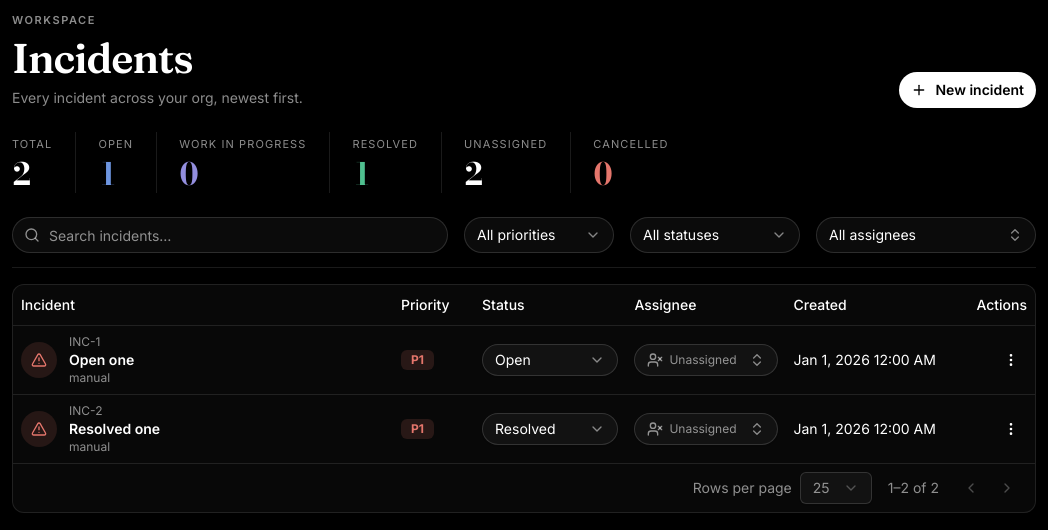
IncidentsListPage — filters › filters by status
This screenshot has width=1048, height=530.
Click the dropdown labelled "All statuses": coordinates (715, 235) [630,217,800,253]
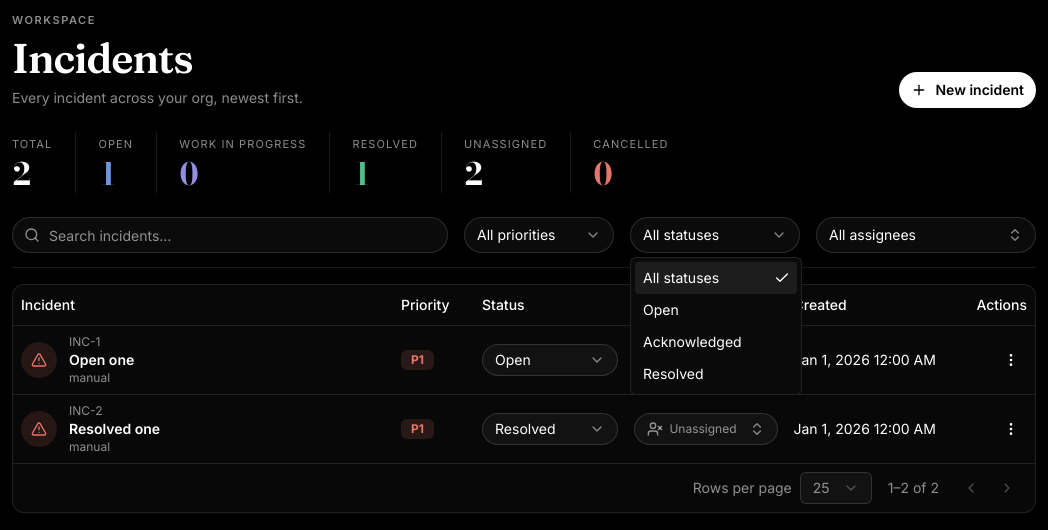
Click the option "Resolved": coordinates (673, 374) [643,365,704,382]
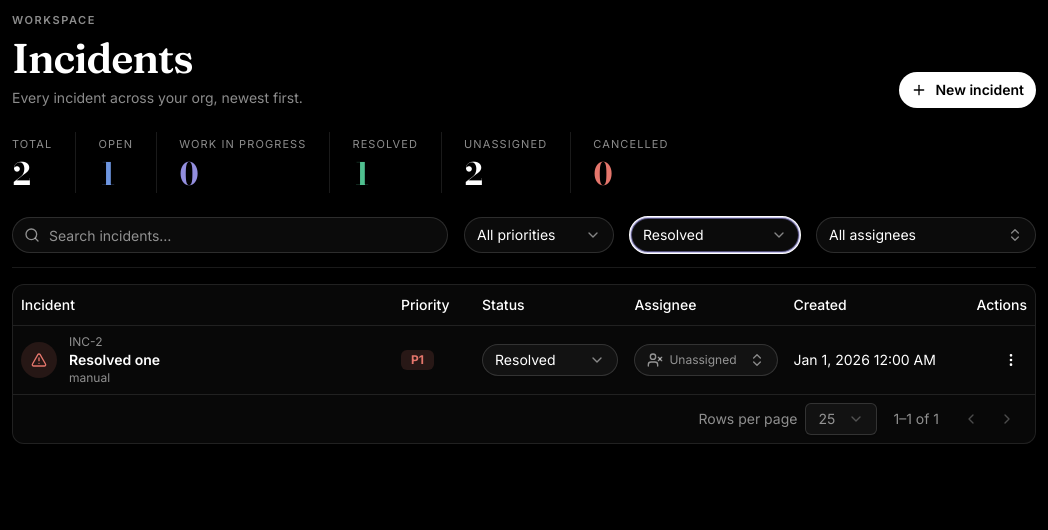
Check: the text "Resolved one" is shown, box [69,350,160,370]
Check: the text "Open one" is gone
